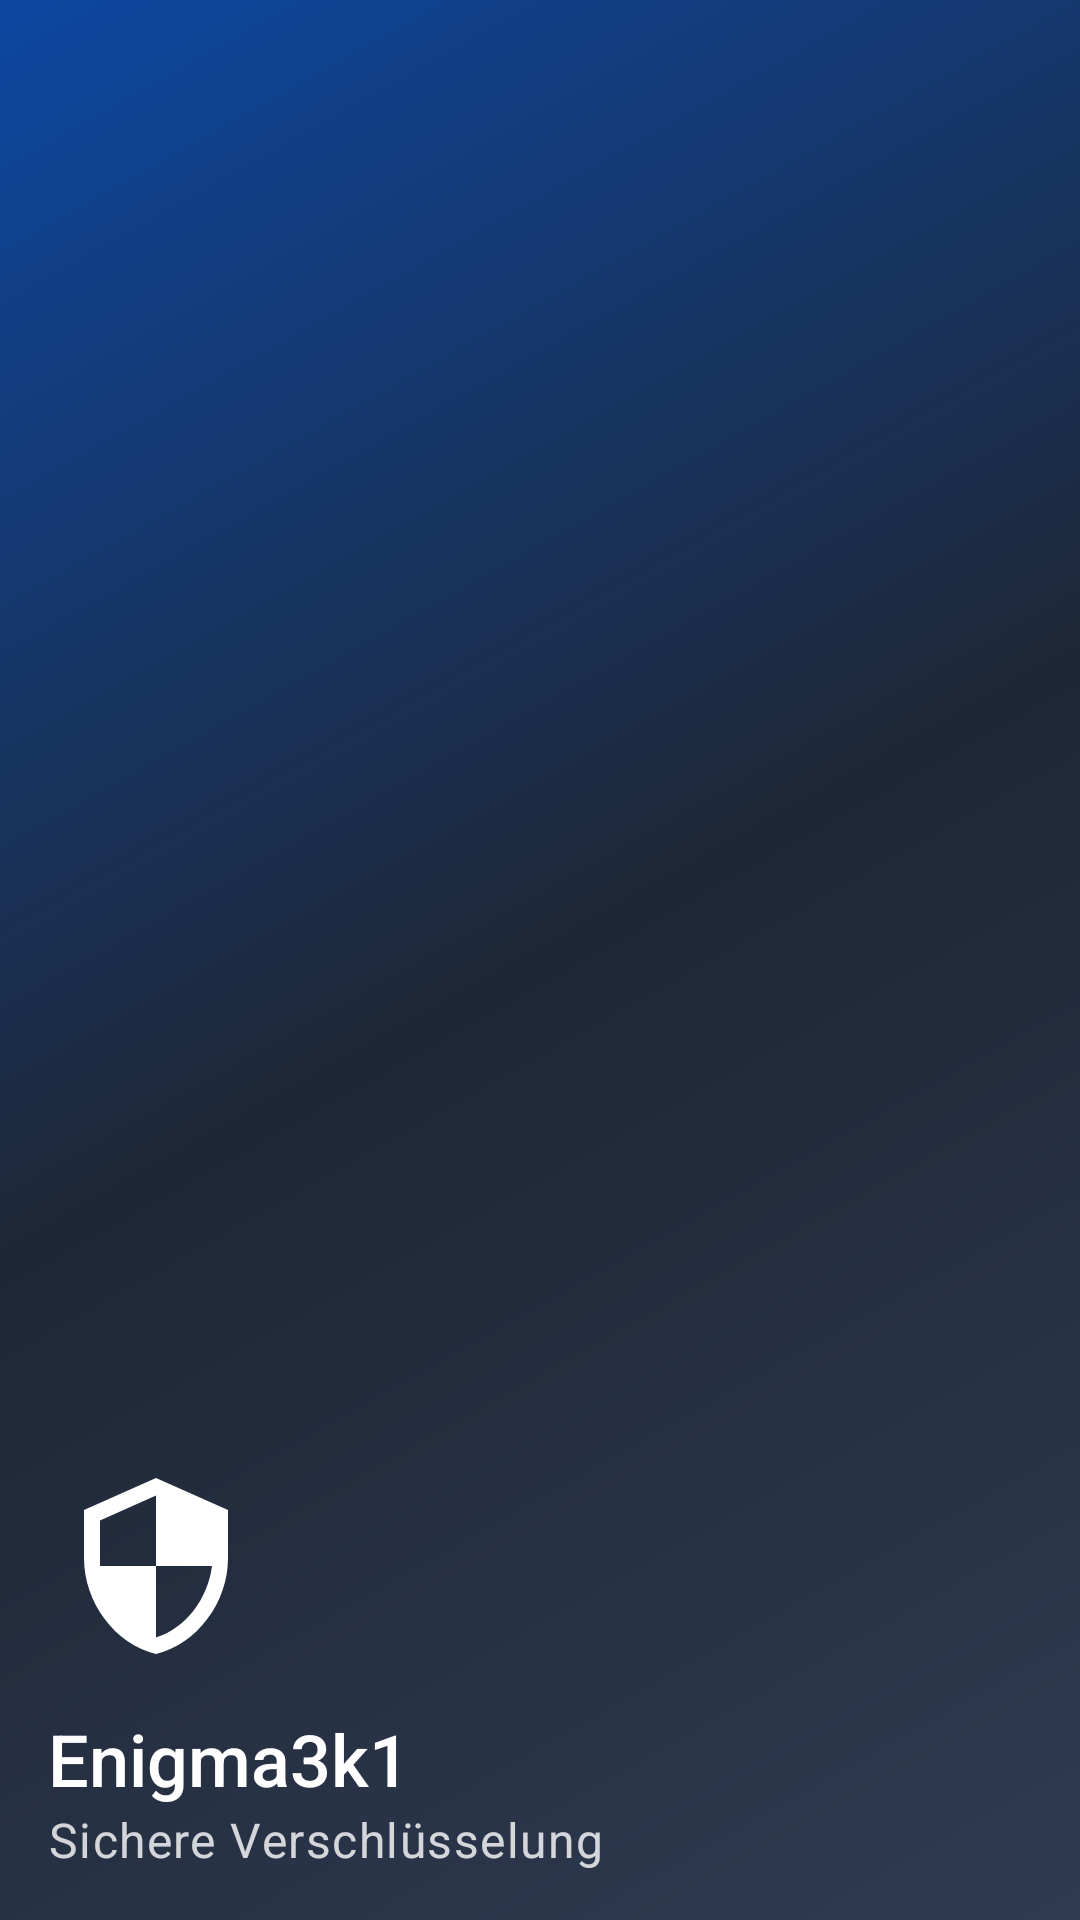

Named icons in this screenshot (1080 × 1920) and their centers, (x=x, y=y):
shield: (x=156, y=1566)
